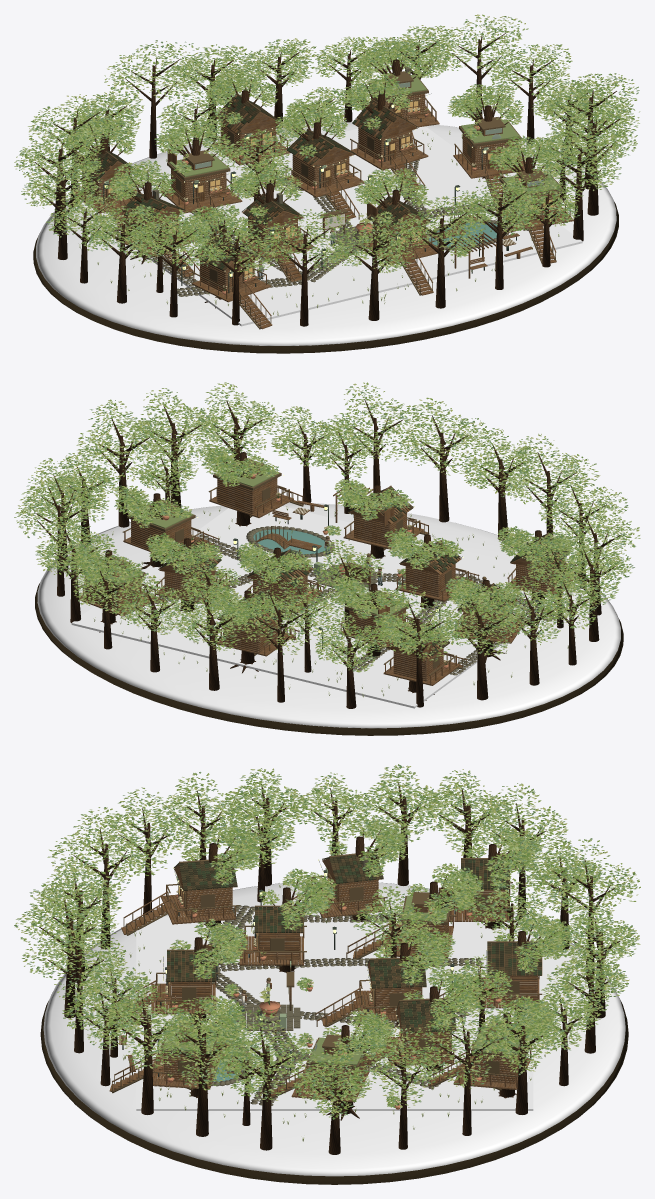
File: town-optimized.glb
The picture shows the model from 3 angles, top to bottom: view 1: azimuth 30°, elevation 25°; view 2: azimuth 150°, elevation 25°; view 3: azimuth 270°, elevation 25°; orthographic projection. The views are drawn at different scales.
Parts seen in each view (by area): view 1: Landscape grass, Landscape bark, Landscape leaf2, Landscape leaf1, Landscape leaf3, Landscape leaf5, Landscape leaf0, Landscape leaf4, Landscape leaf6, Landscape earth, Landscape stone, House_09 cedarLight (+40 smaller); view 2: Landscape grass, Landscape bark, Landscape leaf2, Landscape leaf3, Landscape leaf4, Landscape leaf5, Landscape leaf0, Landscape leaf1, Landscape leaf6, Landscape earth, Landscape stone, House_10 cedar (+16 smaller); view 3: Landscape grass, Landscape bark, Landscape leaf2, Landscape leaf0, Landscape leaf5, Landscape leaf1, Landscape leaf4, Landscape leaf6, Landscape leaf3, Landscape earth, Landscape stone, House_09 cedarLight (+20 smaller).
Boxes of the visible parts, bbox=[...] form: Landscape grass: bbox=[36, 122, 616, 345]; Landscape bark: bbox=[35, 32, 619, 326]; Landscape leaf2: bbox=[14, 16, 638, 315]; Landscape leaf1: bbox=[22, 14, 638, 273]; Landscape leaf3: bbox=[18, 14, 635, 272]; Landscape leaf5: bbox=[14, 17, 640, 273]; Landscape leaf0: bbox=[21, 16, 638, 272]; Landscape leaf4: bbox=[16, 16, 639, 272]; Landscape leaf6: bbox=[16, 15, 639, 273]; Landscape earth: bbox=[33, 201, 618, 353]; Landscape stone: bbox=[113, 160, 509, 296]; House_09 cedarLight: bbox=[193, 260, 272, 329]; Landscape grass: bbox=[37, 502, 620, 728]; Landscape bark: bbox=[35, 399, 620, 708]; Landscape leaf2: bbox=[18, 382, 634, 697]; Landscape leaf3: bbox=[18, 383, 639, 671]; Landscape leaf4: bbox=[18, 383, 634, 672]; Landscape leaf5: bbox=[17, 382, 640, 671]; Landscape leaf0: bbox=[14, 388, 631, 671]; Landscape leaf1: bbox=[15, 382, 640, 671]; Landscape leaf6: bbox=[19, 384, 635, 671]; Landscape earth: bbox=[35, 530, 623, 735]; Landscape stone: bbox=[154, 526, 556, 675]; House_10 cedar: bbox=[348, 490, 409, 545]; Landscape grass: bbox=[43, 881, 625, 1176]; Landscape bark: bbox=[39, 782, 620, 1154]; Landscape leaf2: bbox=[16, 765, 640, 1141]; Landscape leaf0: bbox=[14, 766, 635, 1119]; Landscape leaf5: bbox=[15, 767, 637, 1117]; Landscape leaf1: bbox=[21, 767, 640, 1112]; Landscape leaf4: bbox=[21, 764, 639, 1117]; Landscape leaf6: bbox=[15, 765, 638, 1115]; Landscape leaf3: bbox=[16, 765, 639, 1114]; Landscape earth: bbox=[40, 986, 628, 1184]; Landscape stone: bbox=[208, 905, 481, 1105]; House_09 cedarLight: bbox=[121, 885, 235, 934].
Size of the model in its own units: 50.11 by 12.97 by 42.64.
33 materials, 10 textured.
